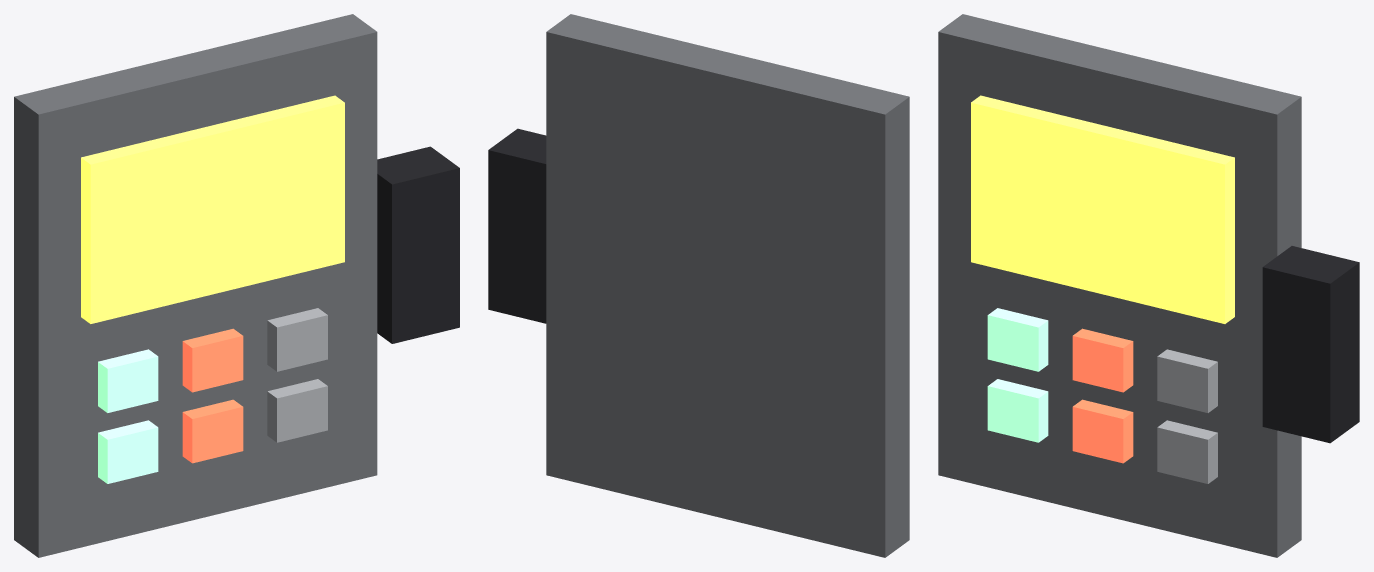
The model's file is SM_Comm_Panel.glb.
3 views of the same model, side by side, from view 1: azimuth 30°, elevation 25°; view 2: azimuth 150°, elevation 25°; view 3: azimuth 330°, elevation 25° (orthographic).
Parts seen in each view (by area): view 1: SM_Comm_Panel; view 2: SM_Comm_Panel; view 3: SM_Comm_Panel.
Boxes of the visible parts, box(x1,y1,x2,y2) form: SM_Comm_Panel: box(14, 14, 459, 557); SM_Comm_Panel: box(488, 14, 909, 557); SM_Comm_Panel: box(938, 14, 1359, 557).
Bounding box in the file's own units: 0.48 × 0.5 × 0.08.
